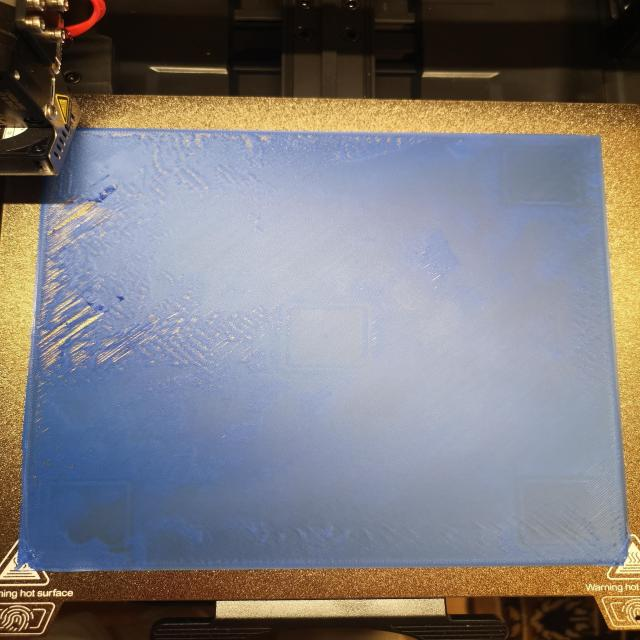spaghetti: (28, 182, 180, 402)
